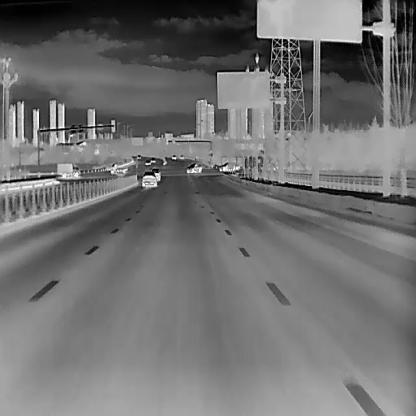car: (56, 163, 80, 177), (140, 171, 156, 187), (217, 161, 239, 171), (110, 163, 128, 175), (185, 163, 201, 173), (151, 168, 160, 181), (144, 159, 150, 164), (178, 154, 184, 159), (136, 154, 141, 159), (150, 157, 155, 162), (171, 154, 176, 159)
